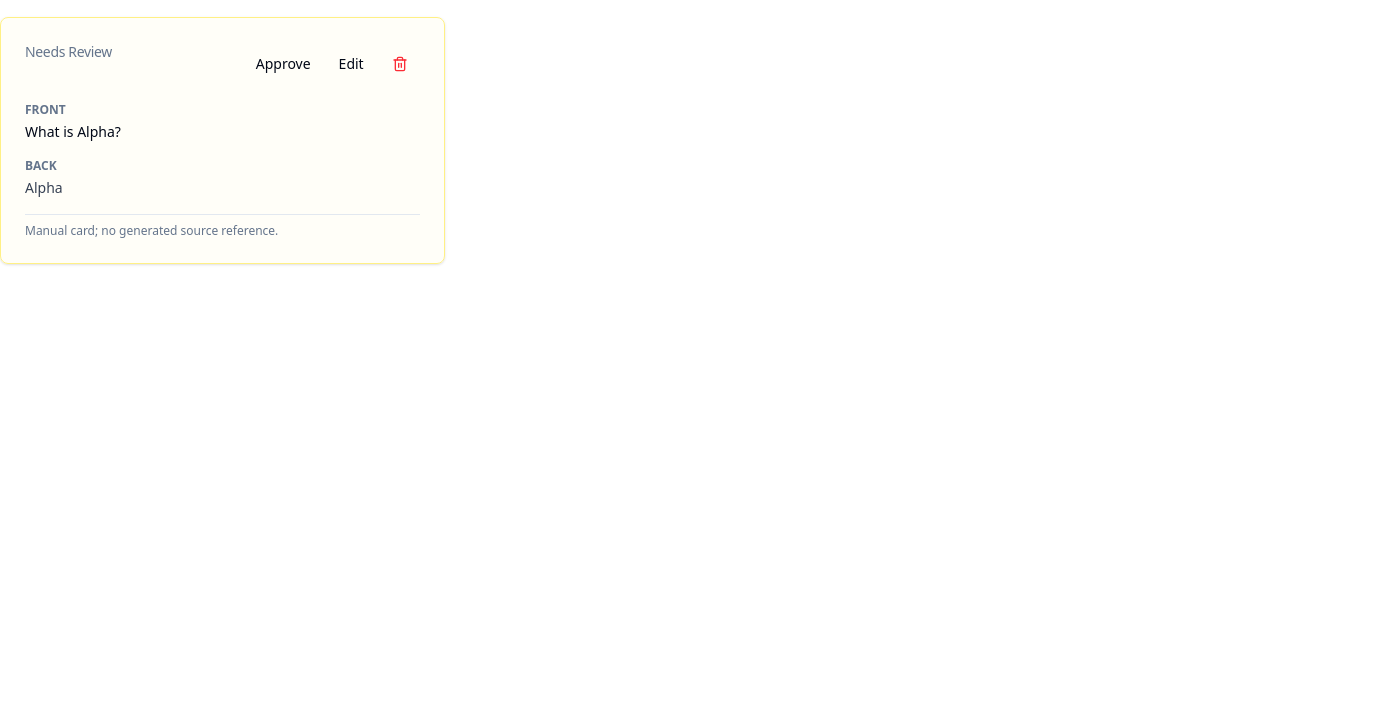
Test: retains draft edits after a failed save and supports recovery
Click the button "Edit".
click(351, 64)  # box [327,42,376,86]
(page scrolled)
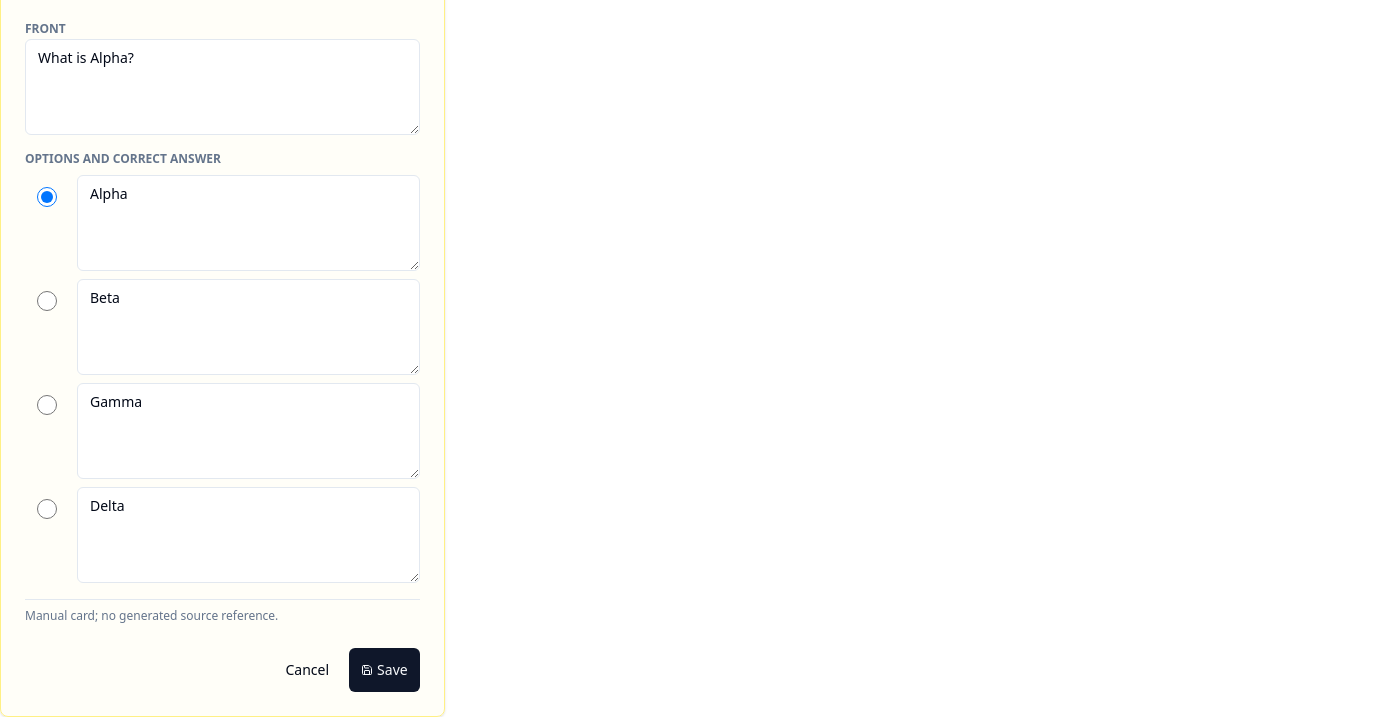
Click the button "Save".
click(384, 670)  # box [349,648,420,692]
(page scrolled)
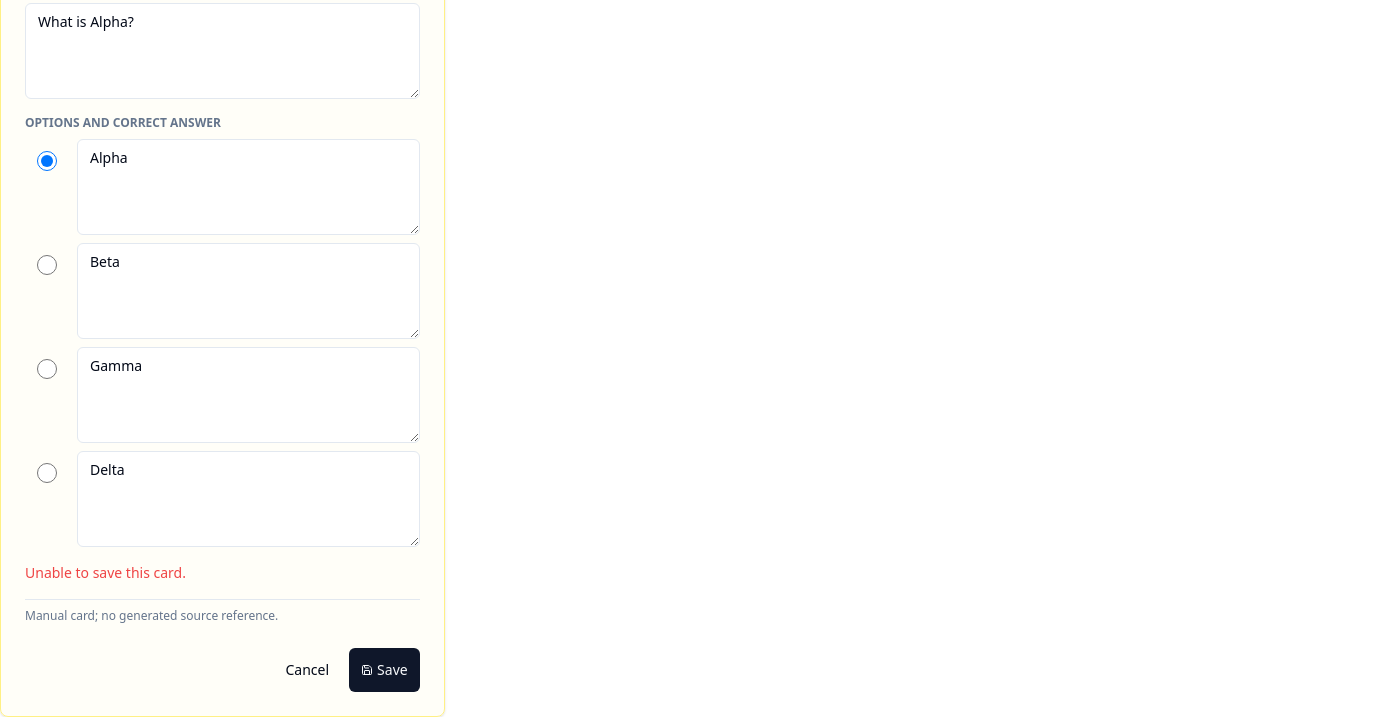
Check: the text box labelled "Front" holds "What is Alpha?", box [25,3,420,99]
Check: the message "Unable to save this card." is shown, box [25,563,186,582]
Click the button "Save".
click(384, 670)  # box [349,648,420,692]
(page scrolled)
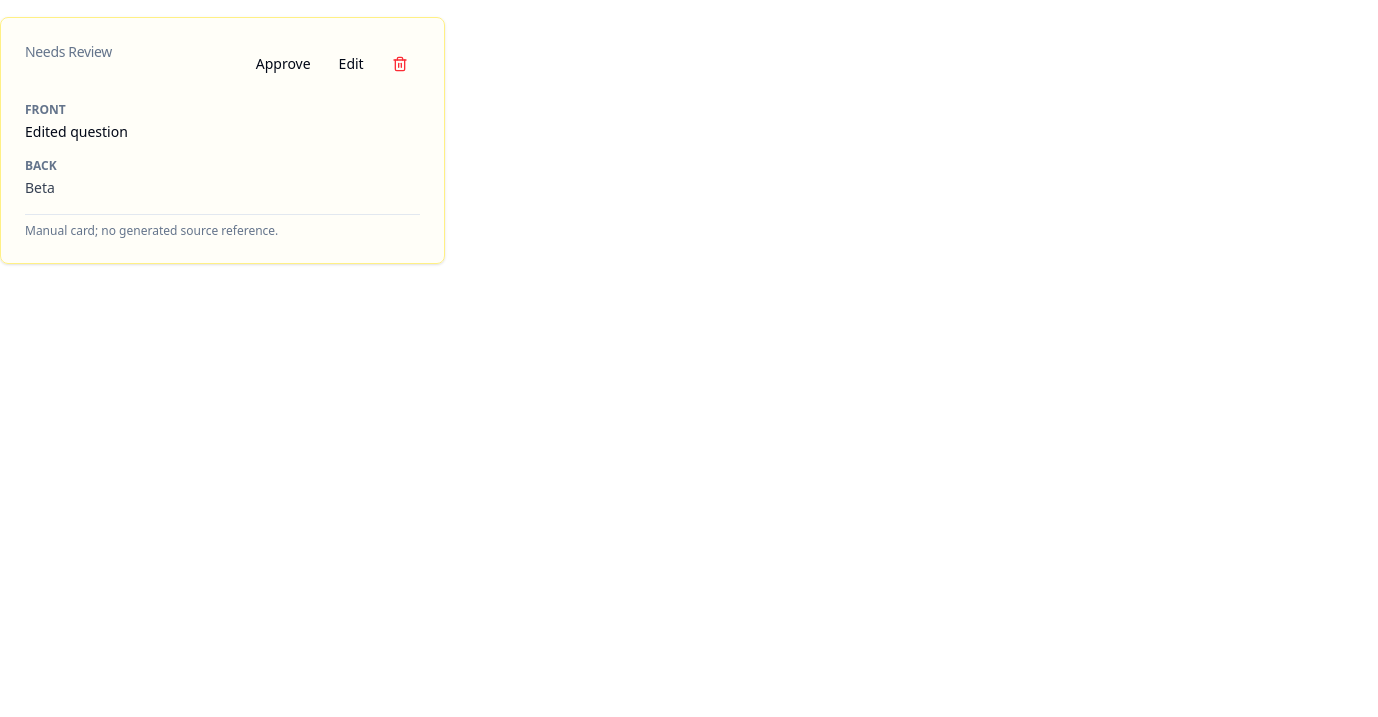
Check: the text "Edited question" is shown, box [25,122,128,141]
